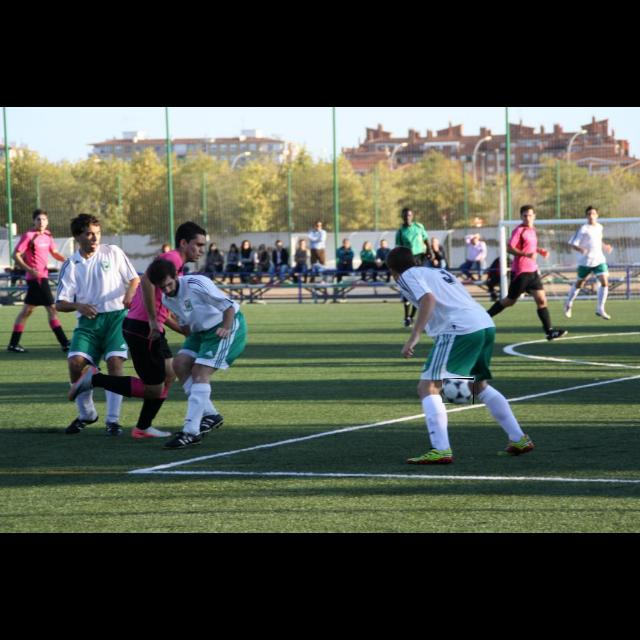Football: (442, 378, 474, 404)
